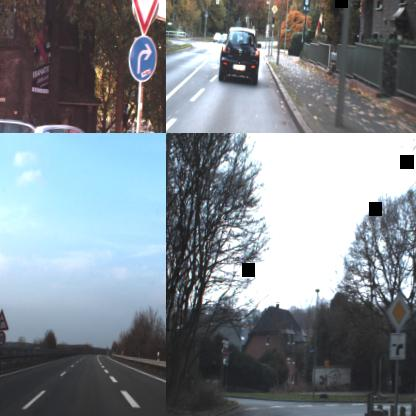bend: (0, 308, 10, 332)
give way: (123, 0, 165, 38)
go right or straight: (127, 34, 158, 84)
priority road: (385, 290, 412, 334), (271, 4, 278, 14)
speed limit 100: (0, 329, 6, 346)
